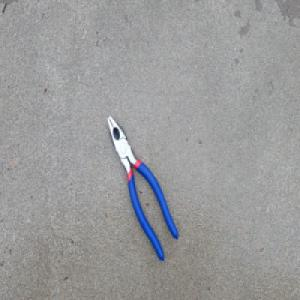Pliers: (106, 115, 178, 261)
